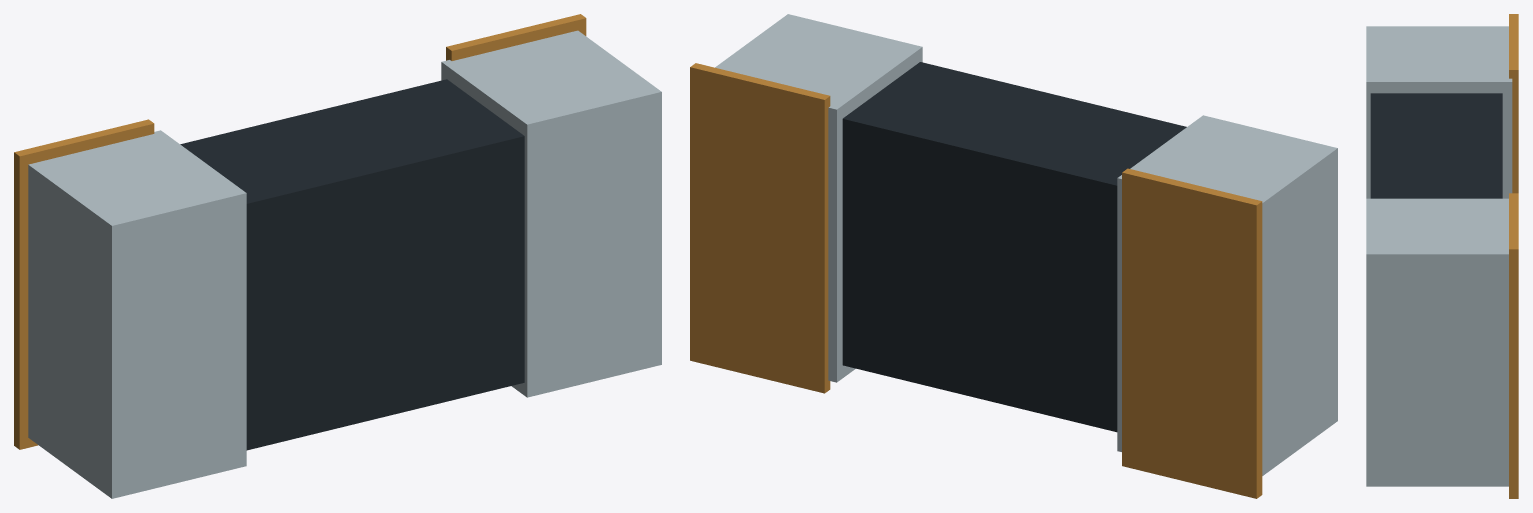
The picture shows the model from 3 angles, left to right: view 1: azimuth 30°, elevation 25°; view 2: azimuth 150°, elevation 25°; view 3: azimuth 270°, elevation 25°; orthographic projection. The views are drawn at different scales.
Visible parts, largest first — view 1: R16; view 2: R16; view 3: R16.
Boxes of the visible parts, x1,y1,x2,y2 form: R16: (14,14,661,498); R16: (690,14,1337,498); R16: (1366,14,1518,498).
Bounding box in the file's own units: 0.00202 × 0.001 × 0.000553.
